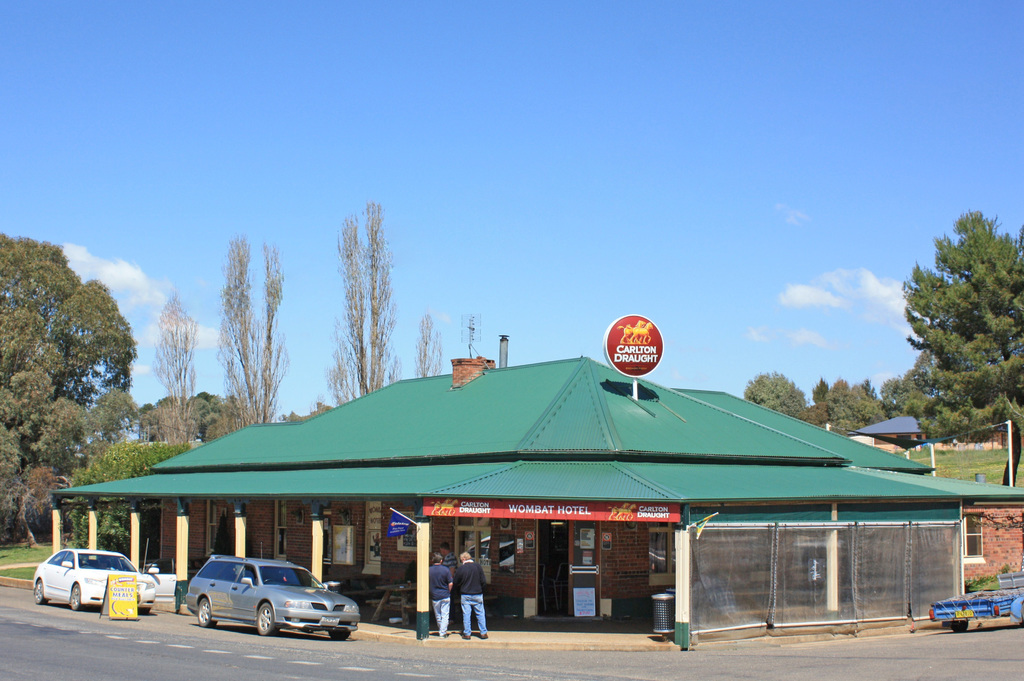Car: (182, 547, 363, 637), (30, 541, 184, 609)
